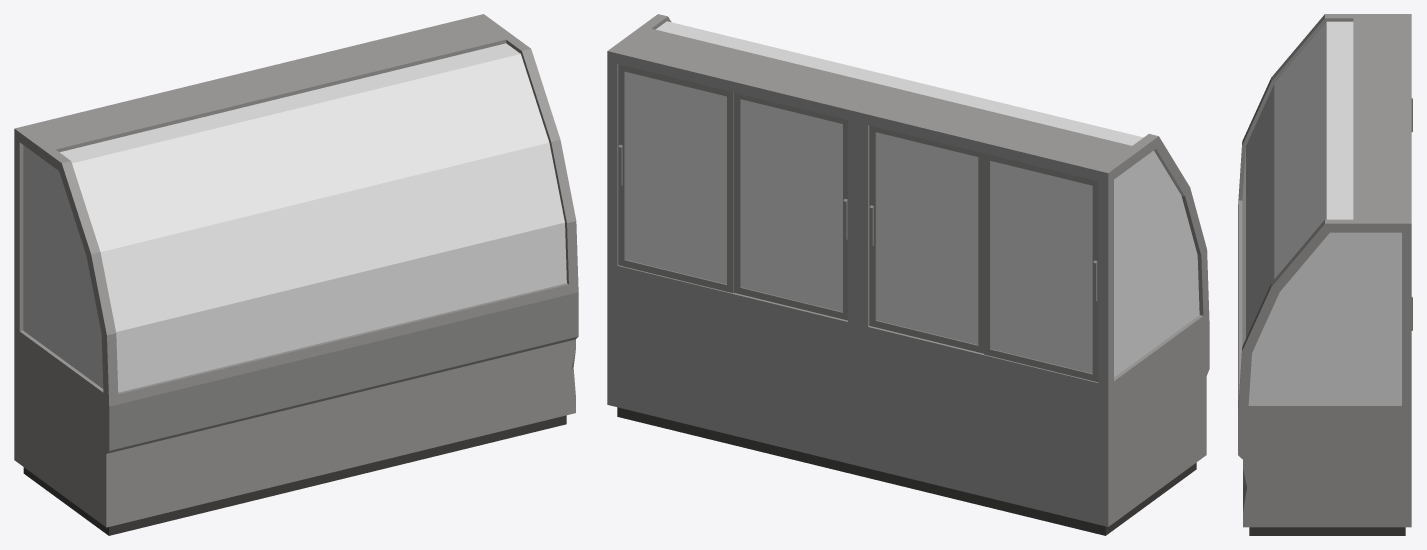
File: SM_Props_Interior_SuperMarket_Display_Food_Preset_Bakery_01.fbx
The picture shows the model from 3 angles, left to right: view 1: azimuth 30°, elevation 25°; view 2: azimuth 150°, elevation 25°; view 3: azimuth 270°, elevation 25°; orthographic projection. The views are drawn at different scales.
Visible parts, largest first — view 1: SM_Props_Interior_SuperMarket_Display_Food_Preset_Bakery_01; view 2: SM_Props_Interior_SuperMarket_Display_Food_Preset_Bakery_01, SM_Props_Interior_SuperMarket_Display_Food_Preset_Bakery_01_ (×4); view 3: SM_Props_Interior_SuperMarket_Display_Food_Preset_Bakery_01.
Boxes of the visible parts, box(x1,y1,x2,y2) form: SM_Props_Interior_SuperMarket_Display_Food_Preset_Bakery_01: box(14, 14, 578, 535); SM_Props_Interior_SuperMarket_Display_Food_Preset_Bakery_01: box(607, 14, 1209, 535); SM_Props_Interior_SuperMarket_Display_Food_Preset_Bakery_01_ (×4): box(618, 64, 1098, 382); SM_Props_Interior_SuperMarket_Display_Food_Preset_Bakery_01: box(1238, 14, 1411, 535).
Bounding box in the file's own units: 200 × 140 × 70.44.
